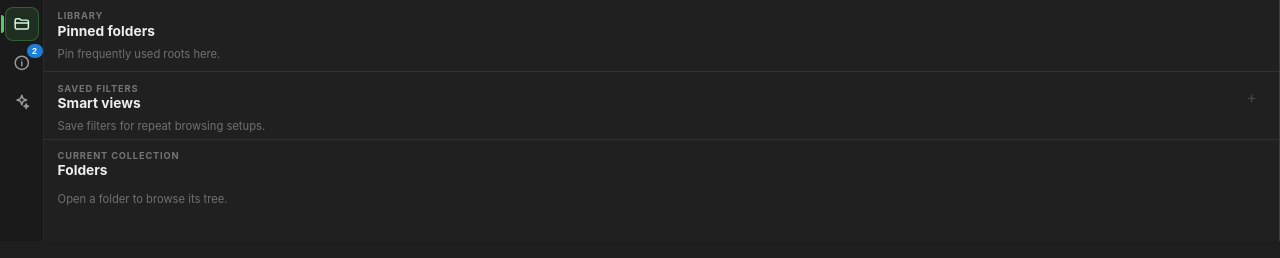
WorkspaceSidebar › gives Generation its own panel while Details is docked
The image size is (1280, 258).
What coordinates should you click on to do the following:
click the tab named "Generation"
I would click on:
 (22, 102)
Its box is [4, 85, 38, 119].
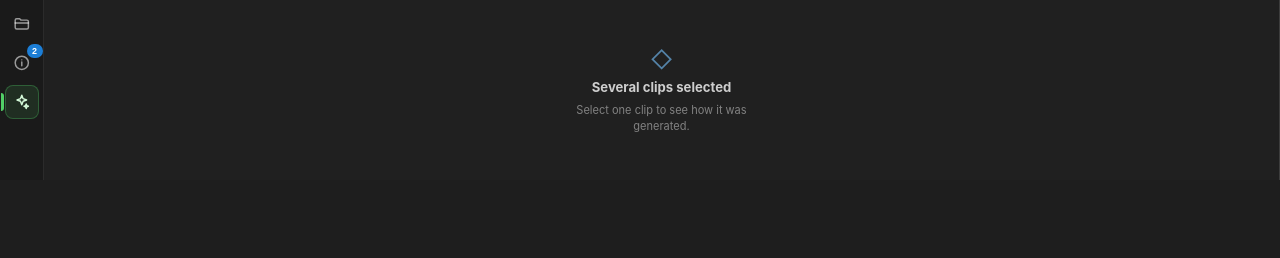
Expected: the panel named "Generation" shows "Select one clip to see how it was generated.", [576, 103, 747, 133]
